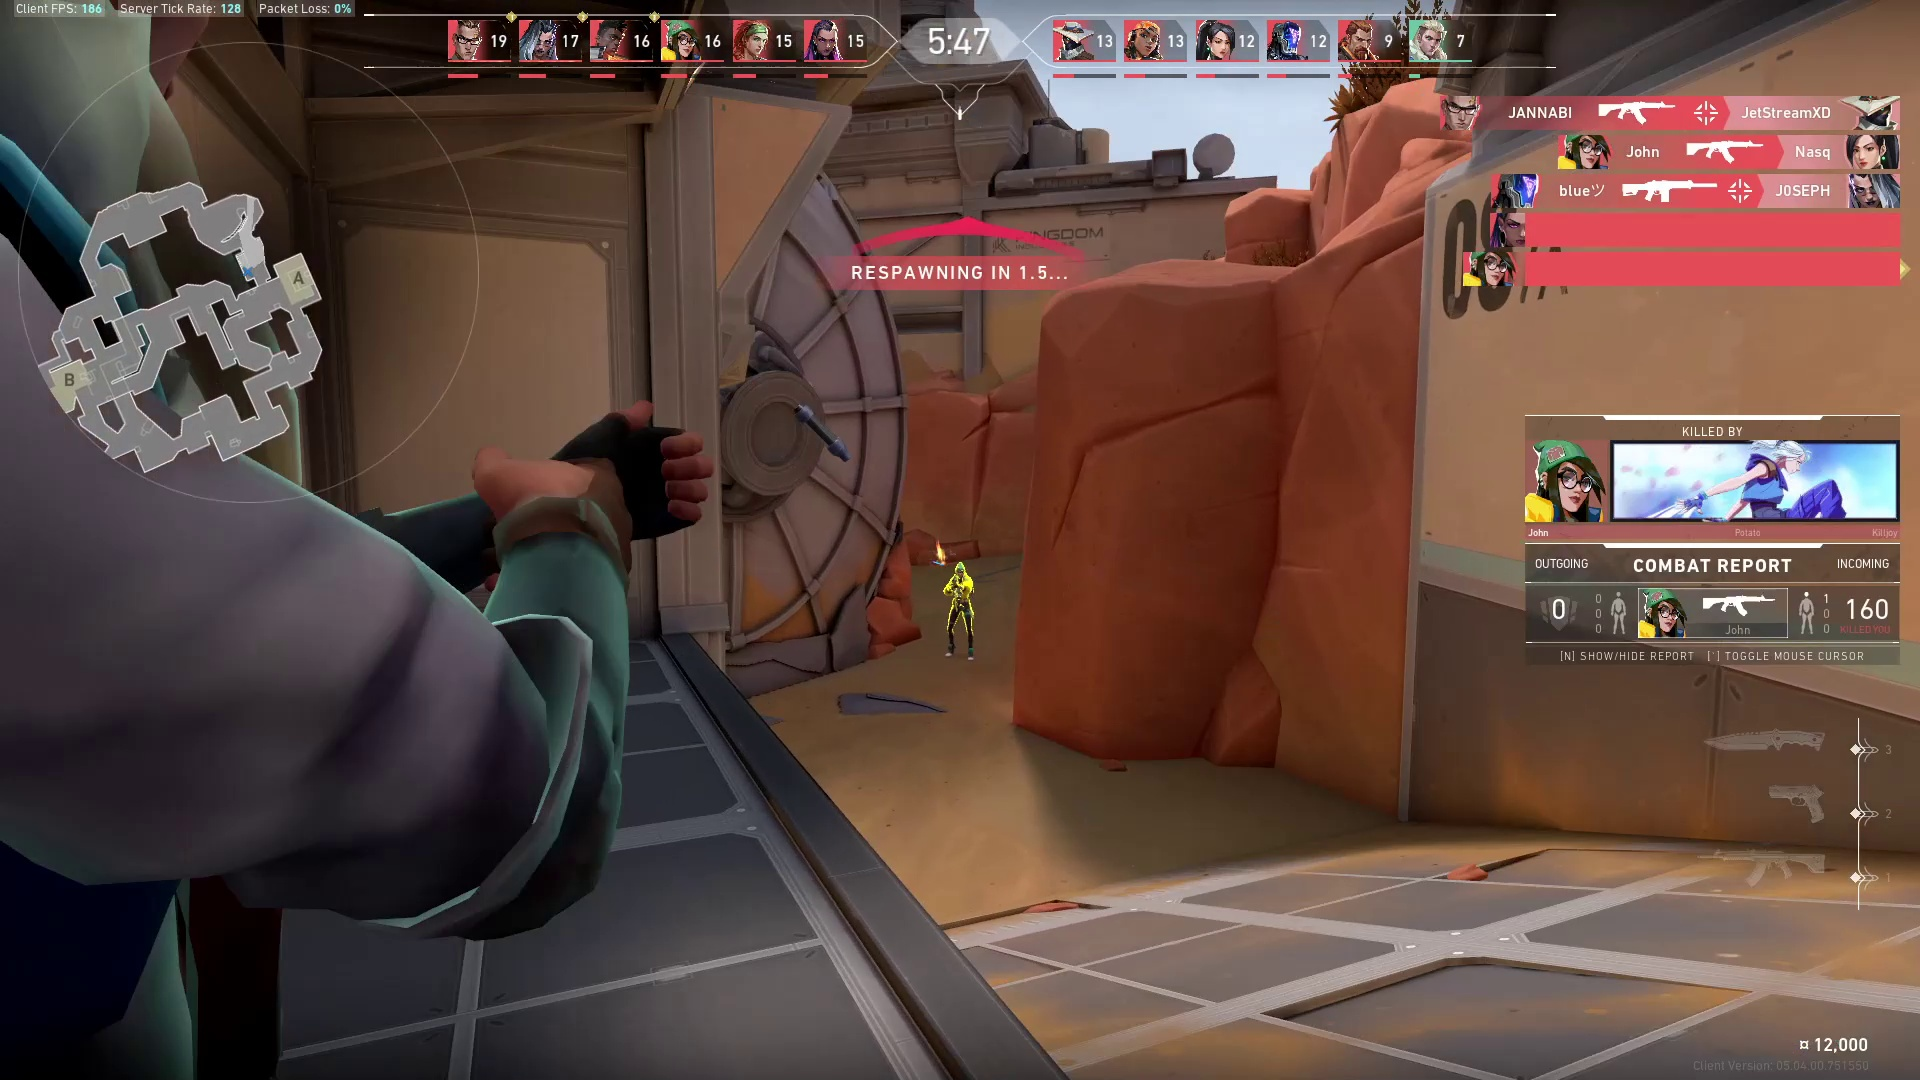enemy_body: (943, 576, 980, 665)
enemy_head: (951, 558, 969, 578)
